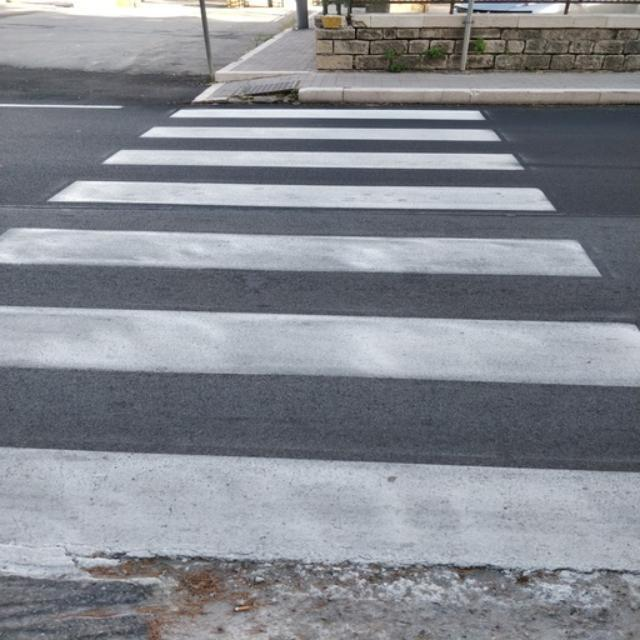sidewalk: (0, 98, 640, 573)
